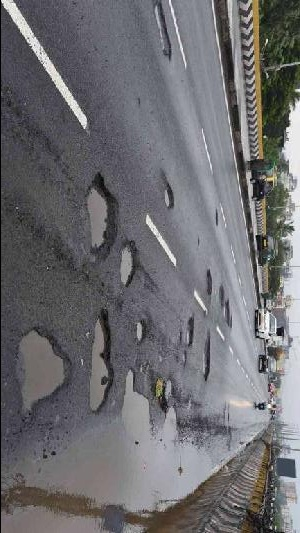pothole: (16, 325, 73, 420), (88, 307, 116, 415), (86, 174, 120, 260), (122, 367, 153, 433), (153, 1, 175, 61), (119, 240, 140, 287), (216, 284, 235, 330), (201, 331, 212, 380), (162, 182, 176, 210), (203, 268, 214, 296), (185, 319, 195, 348), (135, 319, 146, 344)
